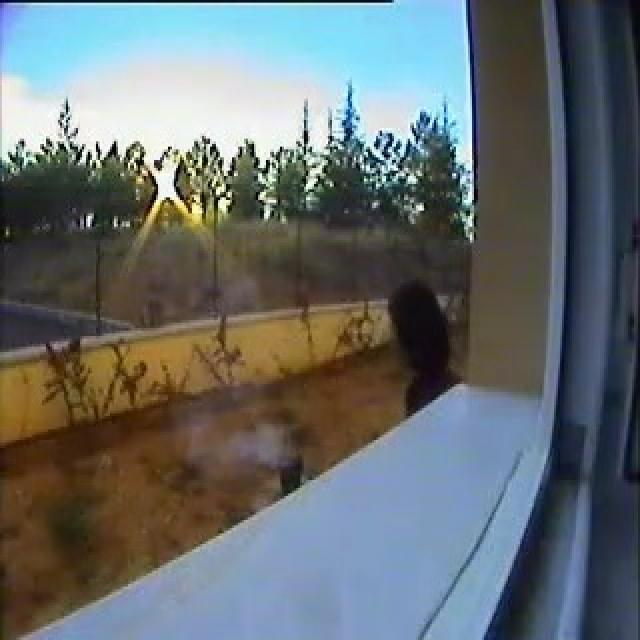smoke: (208, 406, 297, 466)
